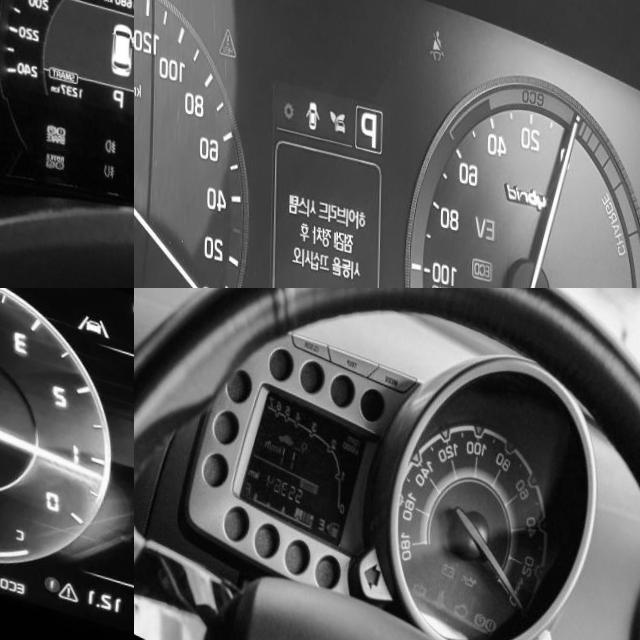Central Warning lamp: (62, 572, 83, 596)
Doors: (414, 560, 433, 583)
FrontFogLight: (108, 125, 120, 142)
LaneCenteringOff: (80, 305, 116, 332)
